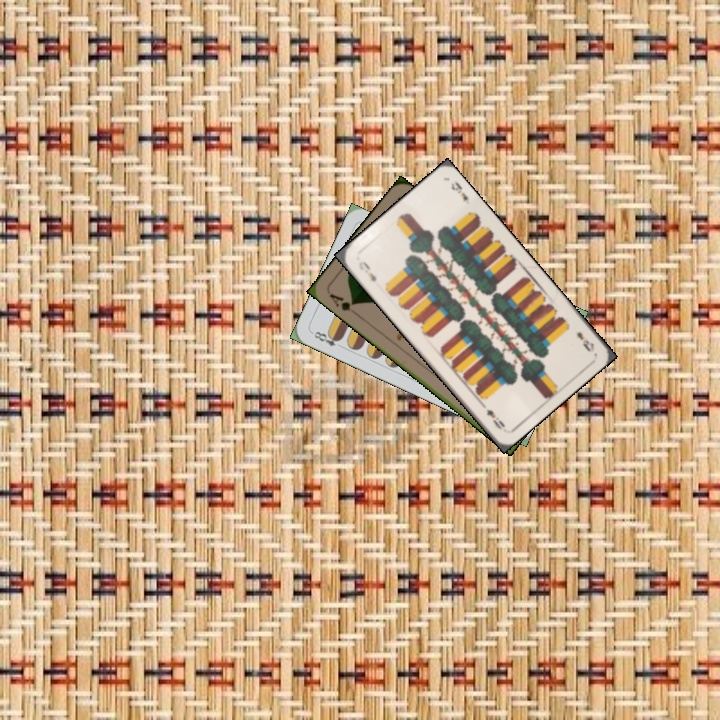E8: (308, 327, 346, 351)
E9: (354, 257, 379, 284), (572, 328, 597, 354)
GA: (325, 289, 360, 318)
